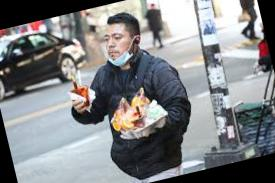mask_weared_incorrect: (95, 25, 137, 70)
